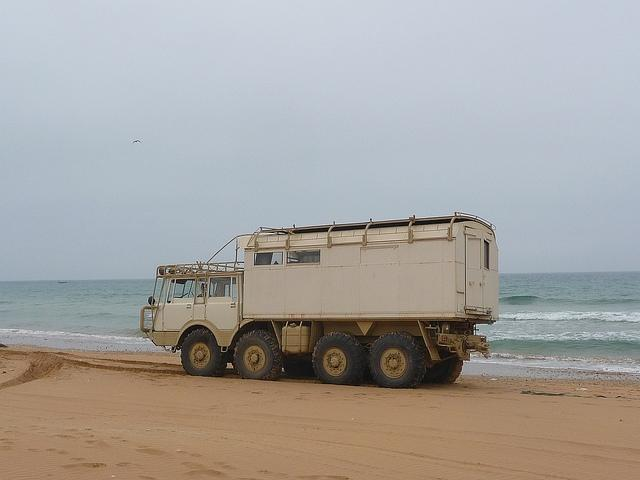truck: (140, 211, 500, 388)
